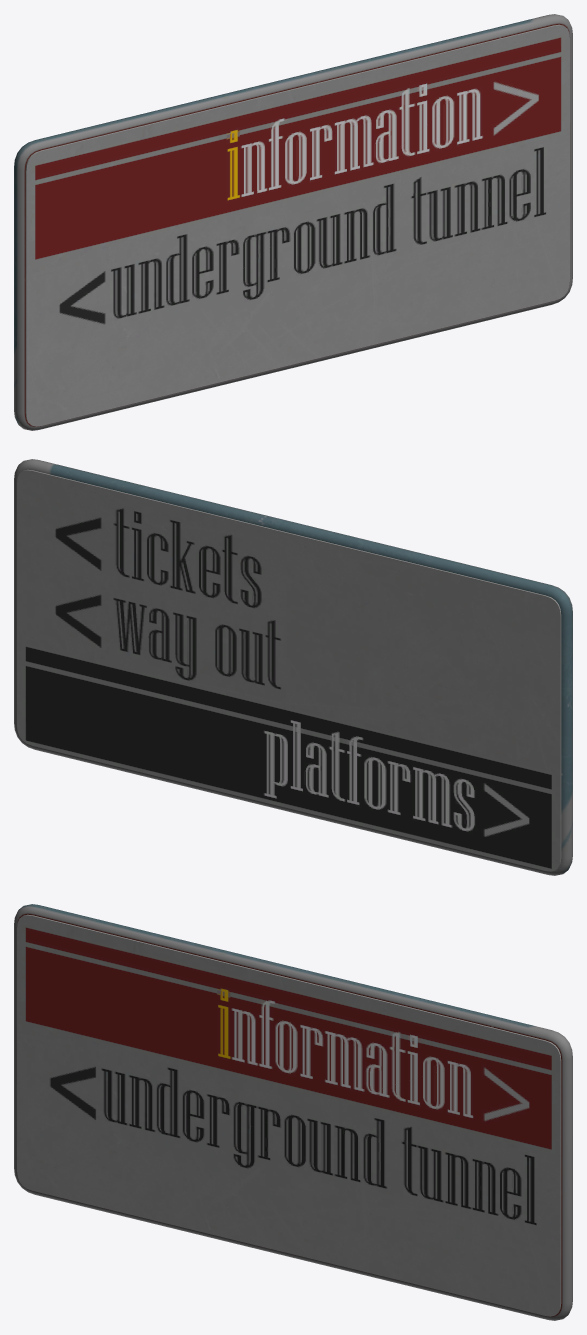
File: SM_Sign4.FBX
The picture shows the model from 3 angles, top to bottom: view 1: azimuth 30°, elevation 25°; view 2: azimuth 150°, elevation 25°; view 3: azimuth 330°, elevation 25°; orthographic projection.
Visible parts, largest first — view 1: SM_Sign4; view 2: SM_Sign4; view 3: SM_Sign4.
Boxes of the visible parts, x1=… form: SM_Sign4: x1=14, y1=14, x2=572, y2=430; SM_Sign4: x1=14, y1=459, x2=572, y2=875; SM_Sign4: x1=14, y1=904, x2=572, y2=1320.
Bounding box in the file's own units: 102 × 3 × 50.79.
